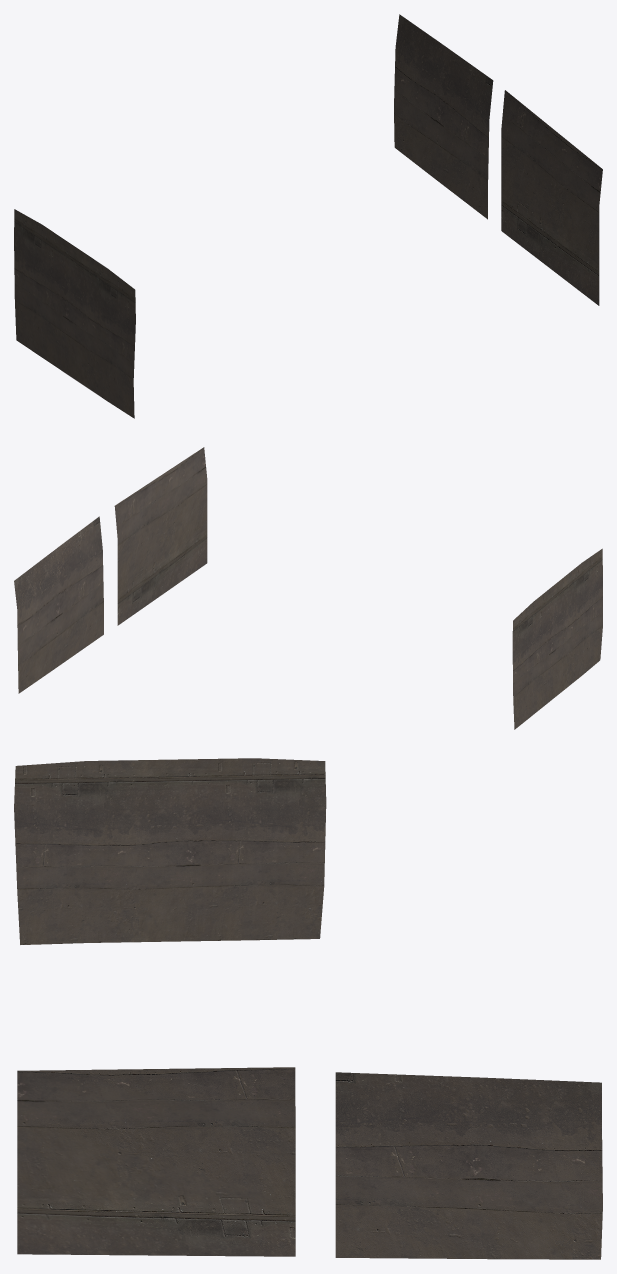
Rendered from SM_Corridor_08_08.fbx.
3 renders of one model, top to bottom at view 1: azimuth 30°, elevation 25°; view 2: azimuth 150°, elevation 25°; view 3: azimuth 270°, elevation 25°, orthographic. The views are drawn at different scales.
Parts seen in each view (by area): view 1: SM_Corridor_08_08; view 2: SM_Corridor_08_08; view 3: SM_Corridor_08_08.
Part boxes in pixels (bbox=[...]): SM_Corridor_08_08: bbox=[14, 14, 602, 418]; SM_Corridor_08_08: bbox=[14, 447, 602, 729]; SM_Corridor_08_08: bbox=[14, 758, 602, 1259].
Size of the model in its own units: 1514 by 418 by 1162.
